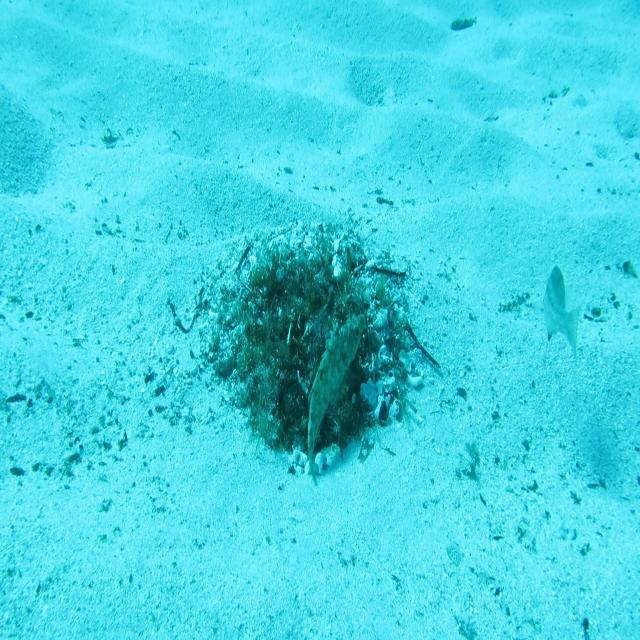LF: (304, 305, 367, 494)
core_nest: (280, 277, 334, 308)
female: (542, 261, 583, 369)
nest: (196, 210, 435, 492)
vegetation: (449, 17, 482, 34)
